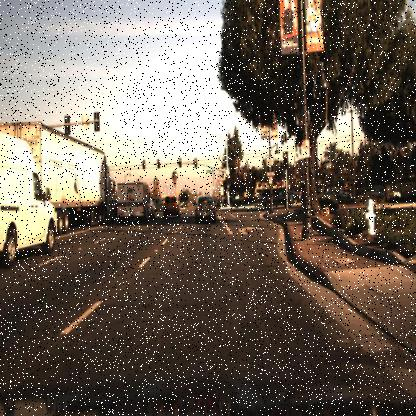car: (0, 130, 64, 275), (113, 179, 148, 232), (319, 182, 353, 212), (192, 194, 217, 224), (160, 192, 183, 222), (154, 194, 164, 218), (147, 196, 156, 220)
trafficLight-Red: (280, 150, 290, 166), (190, 152, 198, 167), (139, 156, 147, 170), (140, 159, 147, 171), (155, 155, 162, 167), (177, 156, 184, 168), (177, 153, 183, 166), (155, 158, 161, 170), (193, 156, 198, 168), (226, 170, 231, 182)
truck: (26, 116, 119, 228)
